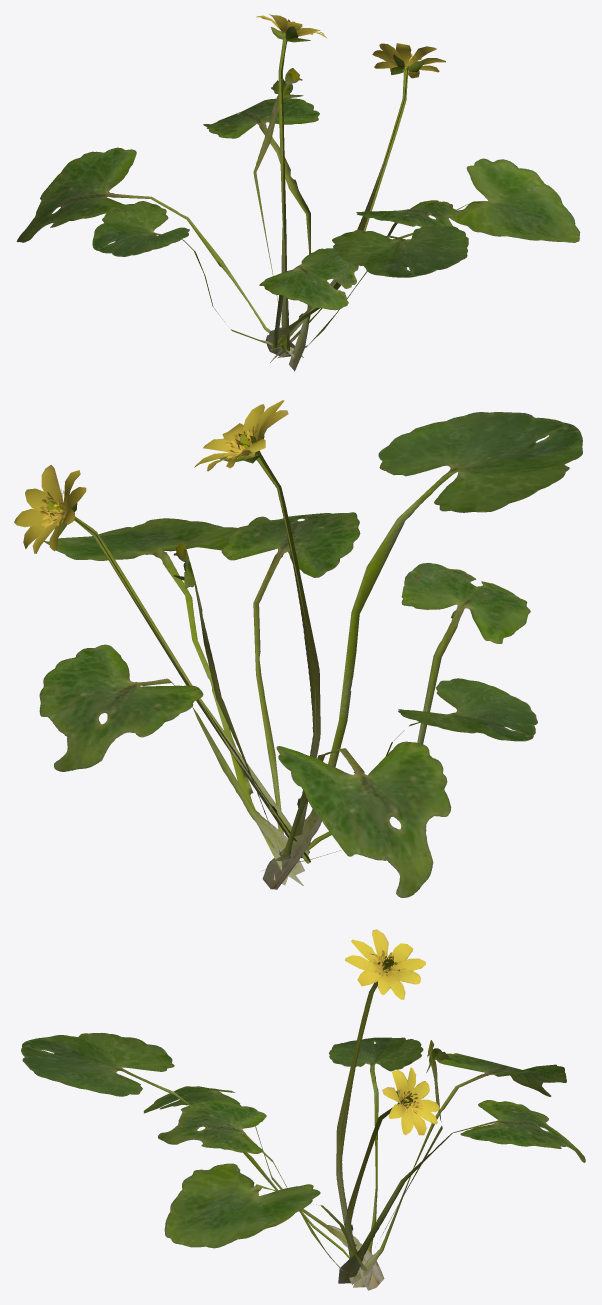
3 renders of one model, top to bottom at view 1: azimuth 30°, elevation 25°; view 2: azimuth 150°, elevation 25°; view 3: azimuth 270°, elevation 25°, orthographic. The views are drawn at different scales.
Parts seen in each view (by area): view 1: celandine_01__d_lod0; view 2: celandine_01__d_lod0; view 3: celandine_01__d_lod0.
Part boxes in pixels (x1,y1,x2,y2): celandine_01__d_lod0: (16,14,580,371); celandine_01__d_lod0: (14,400,582,897); celandine_01__d_lod0: (21,929,585,1290).
Bounding box in the file's own units: 0.1899 × 0.155 × 0.2286.
Materials: 1 (1 with a texture image).
